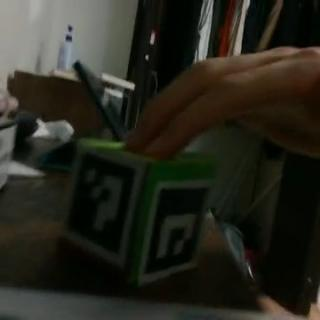armor: (60, 143, 146, 265), (139, 180, 215, 286)
robot: (57, 138, 219, 290)
